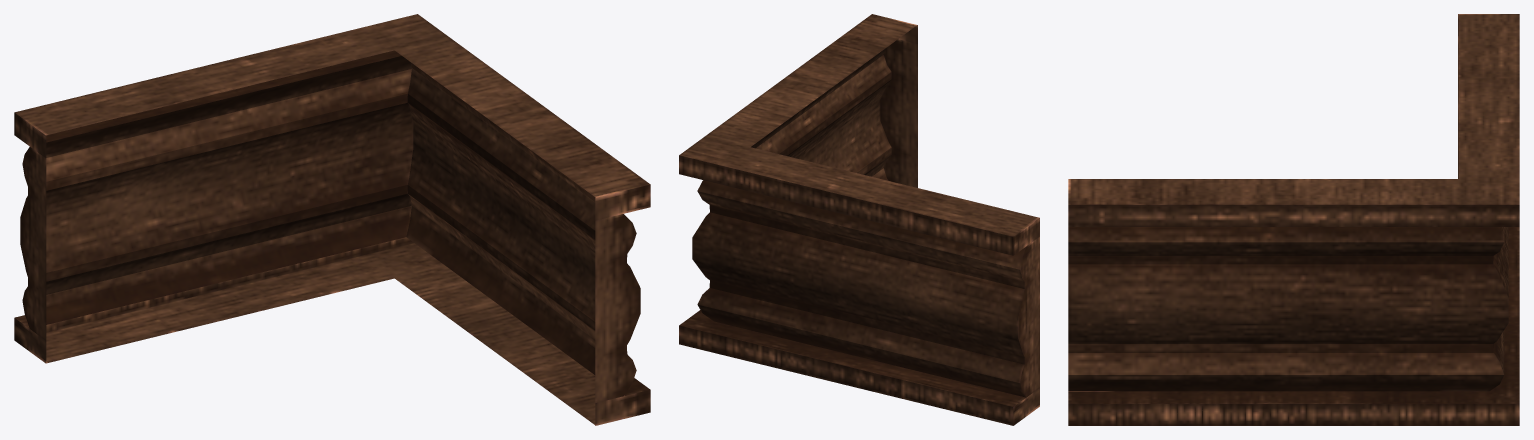
Rendered from Trim_wood_top_corner.fbx.
The picture shows the model from 3 angles, left to right: view 1: azimuth 30°, elevation 25°; view 2: azimuth 150°, elevation 25°; view 3: azimuth 270°, elevation 25°; orthographic projection. The views are drawn at different scales.
Visible parts, largest first — view 1: Trim_wood_top_corner; view 2: Trim_wood_top_corner; view 3: Trim_wood_top_corner.
Boxes of the visible parts, left/top/right/bottom form: Trim_wood_top_corner: left=14, top=14, right=650, bottom=425; Trim_wood_top_corner: left=679, top=14, right=1039, bottom=425; Trim_wood_top_corner: left=1068, top=14, right=1519, bottom=425.
Size of the model in its own units: 116 by 62.5 by 116.
1 material, 1 textured.
